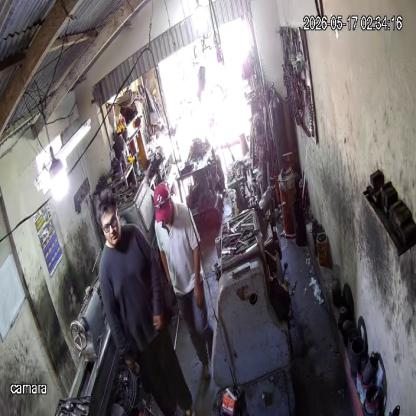lentes: (101, 212, 118, 233)
